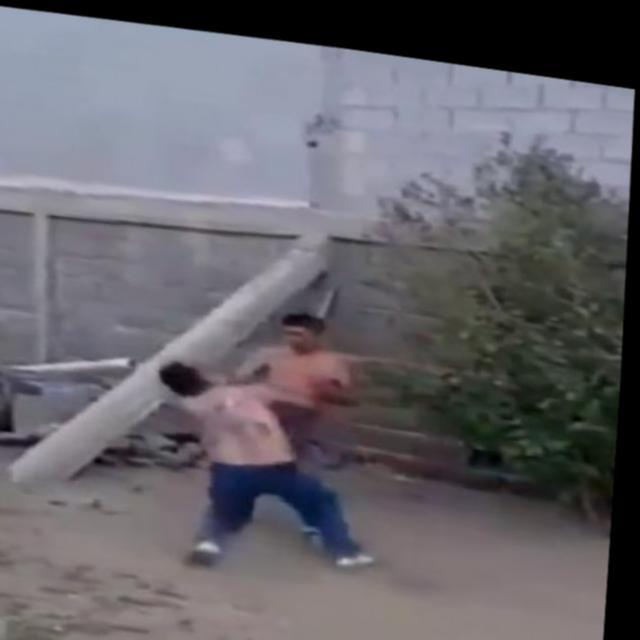fight: (150, 290, 392, 571)
